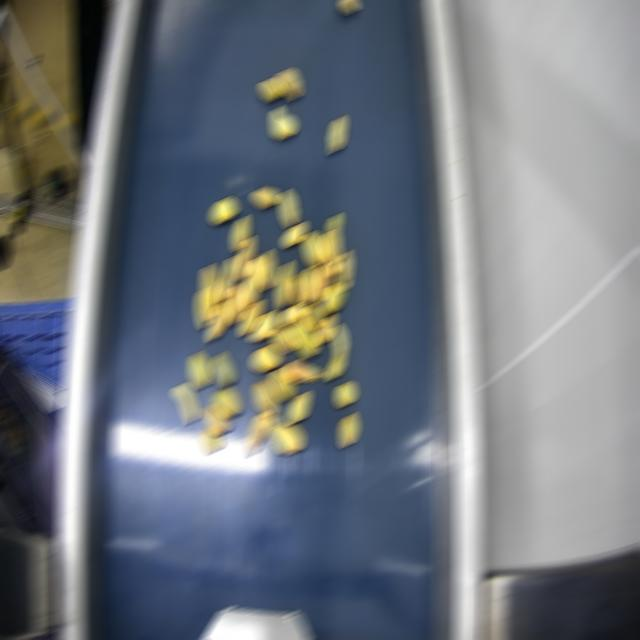Baby Potato: (265, 417, 302, 453), (241, 256, 262, 308), (290, 319, 317, 357), (326, 327, 345, 379), (201, 266, 218, 318), (247, 412, 268, 454), (207, 302, 230, 340), (173, 385, 196, 423), (283, 359, 322, 381), (216, 256, 235, 300), (249, 311, 276, 340), (239, 301, 262, 335), (254, 379, 275, 416), (270, 367, 293, 400), (251, 345, 280, 371), (275, 263, 292, 307), (213, 387, 238, 416), (203, 405, 228, 434), (328, 114, 346, 154), (302, 232, 323, 266), (235, 237, 252, 279), (320, 233, 337, 275), (212, 353, 233, 386), (321, 284, 344, 314), (271, 108, 294, 137), (189, 352, 208, 387), (313, 264, 330, 303), (226, 284, 243, 323), (288, 392, 309, 423), (276, 71, 299, 99), (327, 215, 340, 263), (336, 252, 351, 292), (210, 199, 235, 223), (259, 250, 274, 289), (279, 192, 296, 226), (339, 413, 356, 446), (282, 223, 305, 247), (315, 315, 334, 344), (280, 303, 305, 325), (302, 266, 316, 304), (272, 329, 295, 352), (196, 287, 209, 327), (232, 216, 247, 249), (252, 188, 277, 207), (288, 274, 303, 303), (260, 80, 281, 100), (335, 384, 354, 406), (304, 305, 321, 329), (202, 427, 219, 451), (339, 0, 359, 16)
